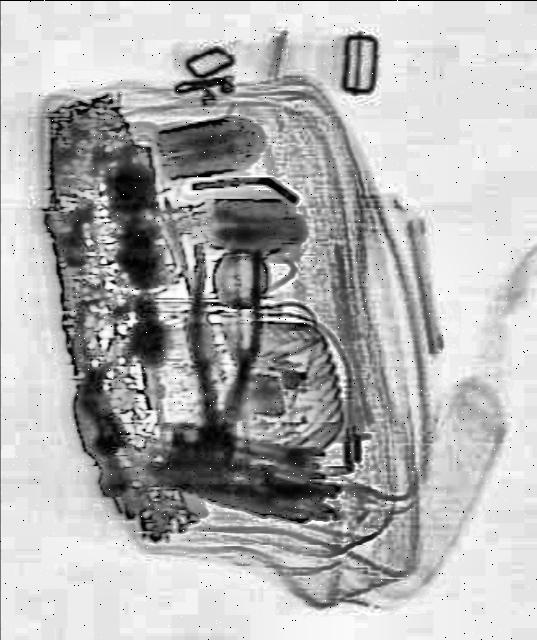Pliers: (178, 246, 272, 478)
